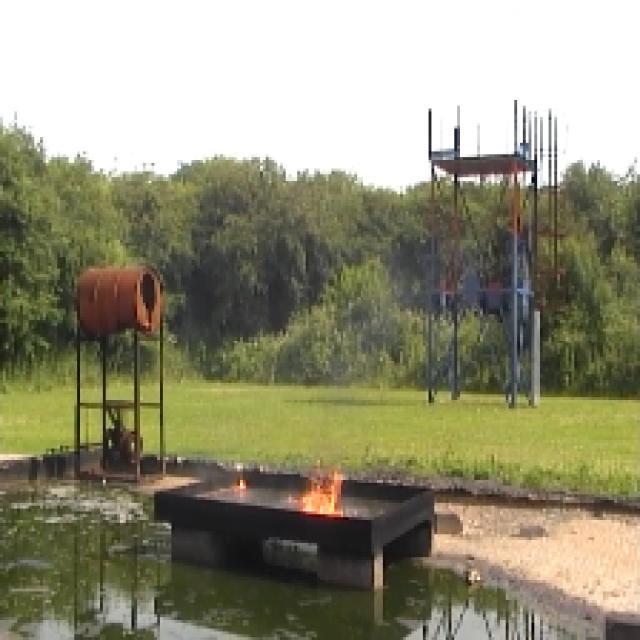Fire: (290, 468, 343, 514)
